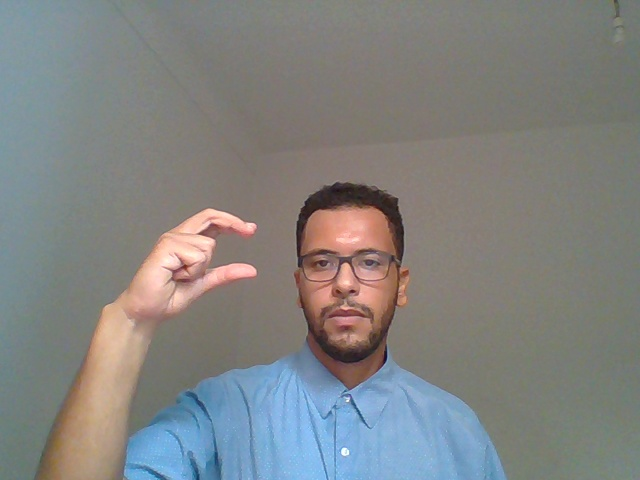no: (76, 149, 267, 426)
